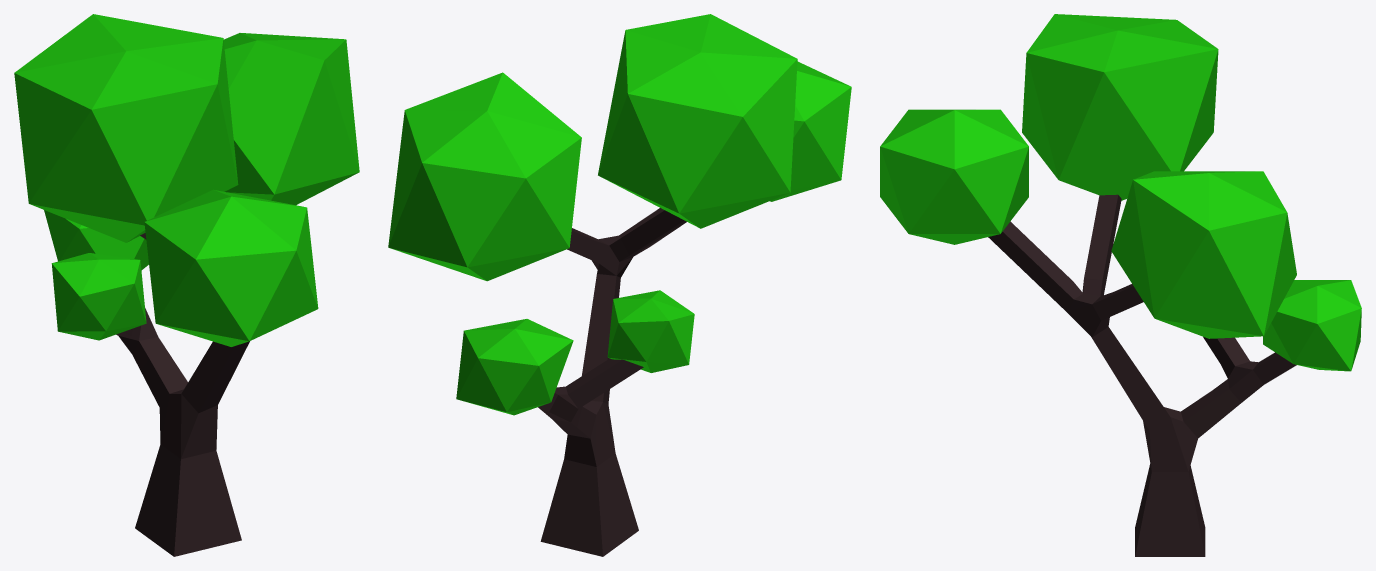
File: dtree8B(F326).obj
The picture shows the model from 3 angles, left to right: view 1: azimuth 30°, elevation 25°; view 2: azimuth 150°, elevation 25°; view 3: azimuth 270°, elevation 25°; orthographic projection. The views are drawn at different scales.
Visible parts, largest first — view 1: Icosphere.034, Icosphere.035, Icosphere.033, Cube.008, Icosphere.031, Icosphere.032; view 2: Icosphere.034, Icosphere.033, Cube.008, Icosphere.032, Icosphere.035, Icosphere.031; view 3: Icosphere.034, Icosphere.033, Cube.008, Icosphere.035, Icosphere.032.
Boxes of the visible parts, x1,y1,x2,y2 form: Icosphere.034: [14, 14, 238, 242]; Icosphere.035: [144, 189, 318, 346]; Icosphere.033: [223, 33, 359, 205]; Cube.008: [116, 233, 249, 556]; Icosphere.031: [51, 253, 146, 340]; Icosphere.032: [44, 210, 148, 270]; Icosphere.034: [598, 14, 797, 228]; Icosphere.033: [388, 72, 581, 281]; Cube.008: [538, 208, 686, 556]; Icosphere.032: [456, 319, 573, 415]; Icosphere.035: [770, 61, 851, 201]; Icosphere.031: [607, 290, 694, 372]; Icosphere.034: [1022, 14, 1218, 200]; Icosphere.033: [1111, 171, 1296, 338]; Cube.008: [988, 194, 1296, 556]; Icosphere.035: [880, 109, 1028, 244]; Icosphere.032: [1263, 280, 1361, 371].
Bounding box in the file's own units: 1.42 × 1.94 × 1.8.
